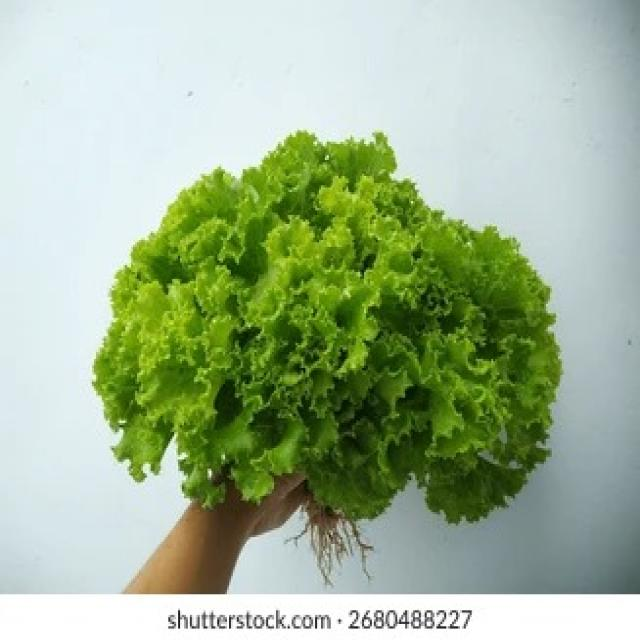lista_para_cosechar: (94, 133, 560, 576)
